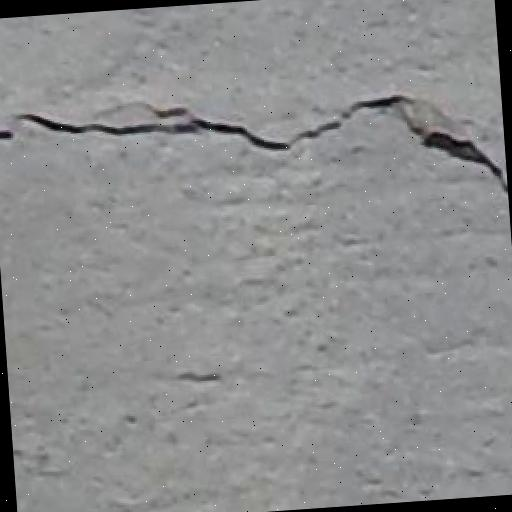spalling: (0, 79, 502, 198)
